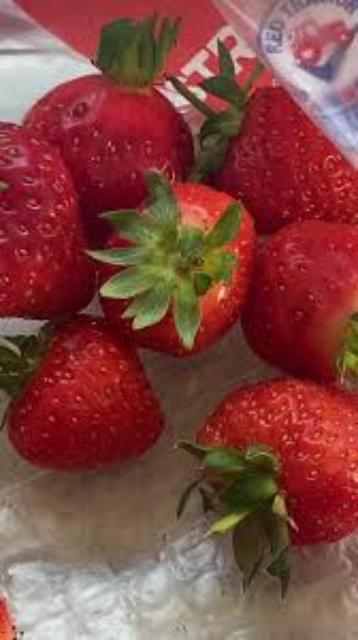Strawberries: (19, 27, 191, 209), (196, 374, 358, 556), (100, 172, 250, 358), (6, 316, 168, 470), (211, 82, 358, 229), (0, 122, 96, 314), (250, 216, 358, 380)
